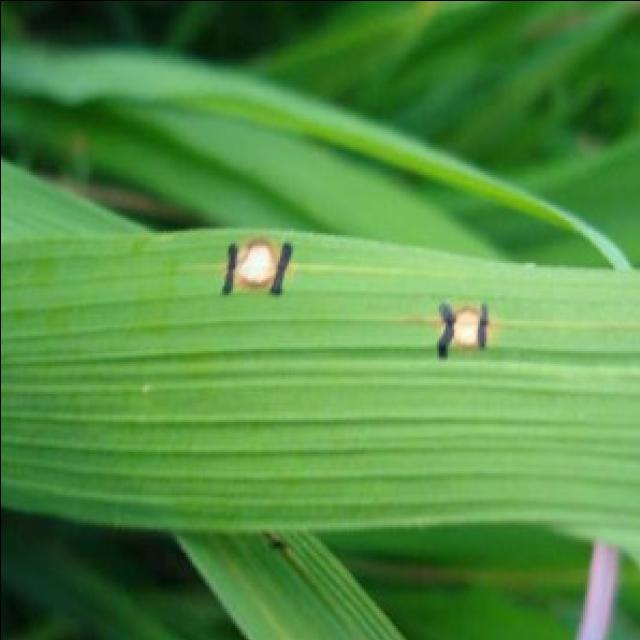brown plant hopper: (238, 243, 277, 283)
